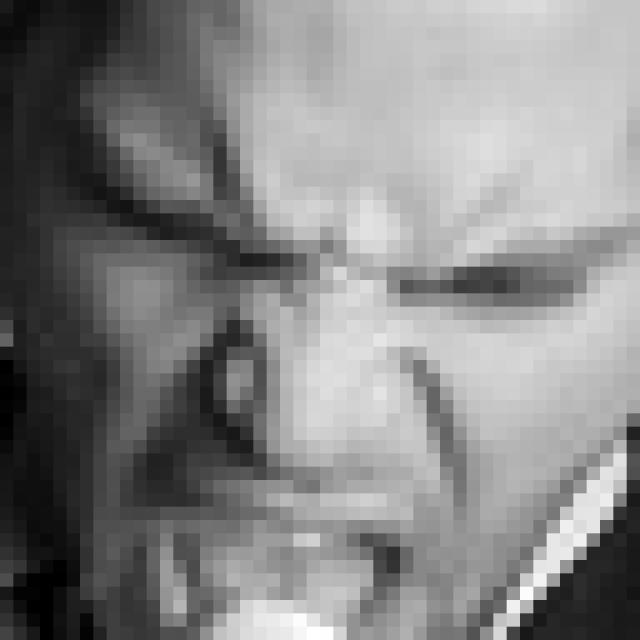angry: (65, 113, 596, 640)
